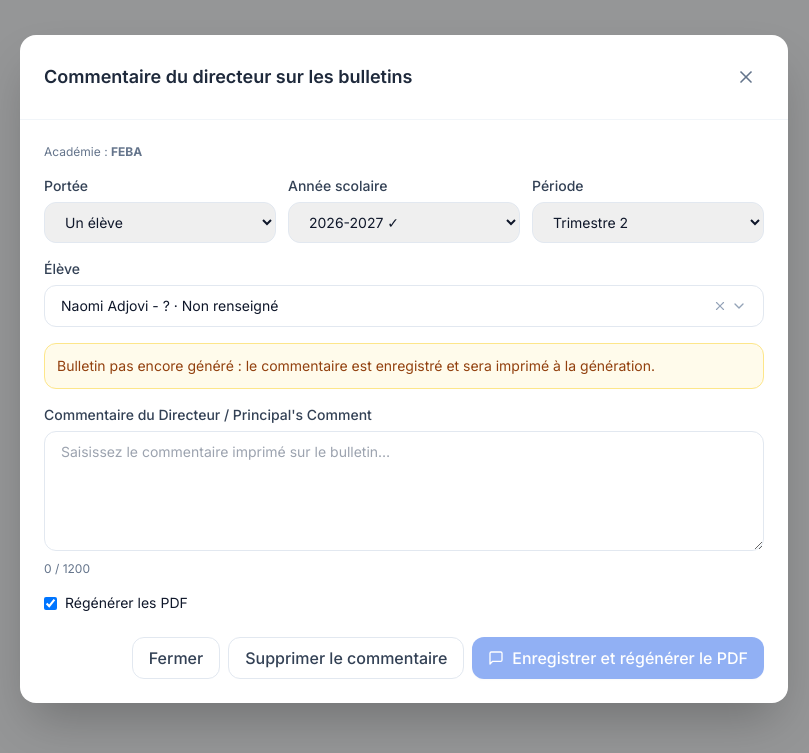
Test: bulletin pas encore généré › une erreur serveur n'est jamais présentée comme un succès
The width and height of the screenshot is (809, 753).
expect the element with test id "bulletin-state" is shown: met, box [44,343,764,389]
Type "X" into the text box labelled "Commentaire du Directeur / Principal's Comment" at coordinates (404, 491), box [44,431,764,551]
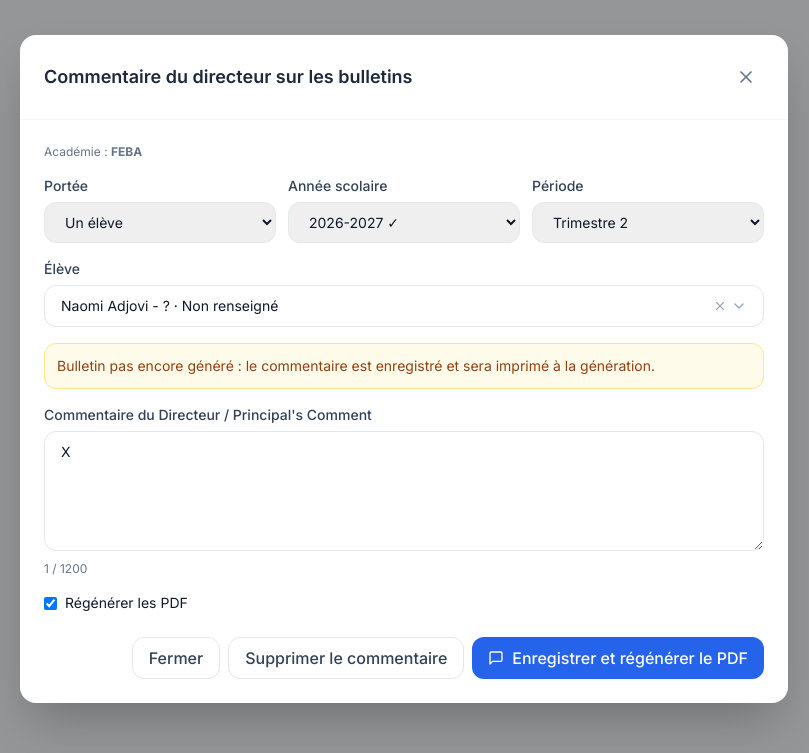
Click the button "Enregistrer et régénérer le PDF" at coordinates (618, 658), box [472,637,764,679]
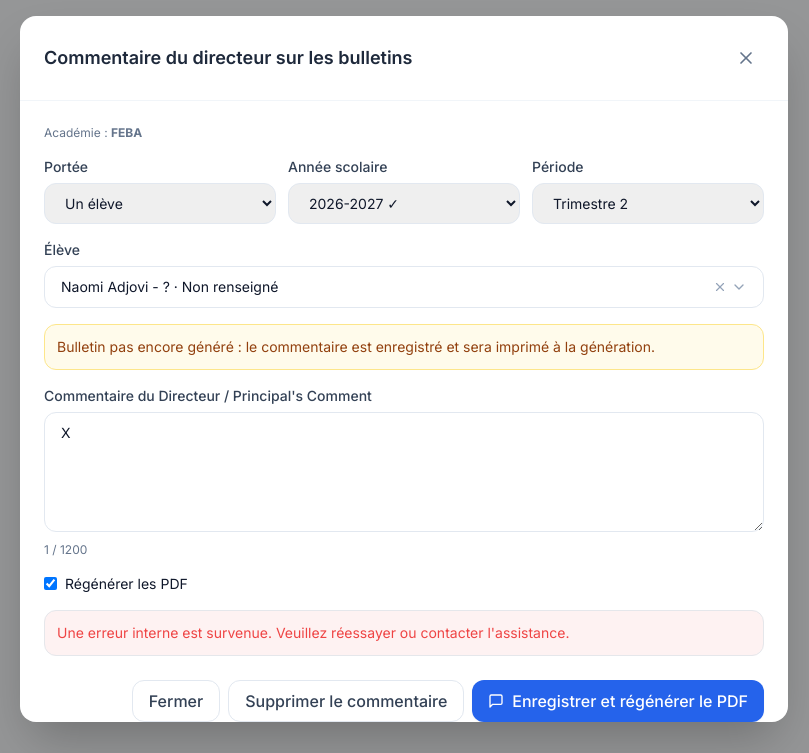
expect the message "Une erreur interne est survenue. Veuillez réessayer ou contacter l'assistance." is shown: met, box [44,610,764,656]
